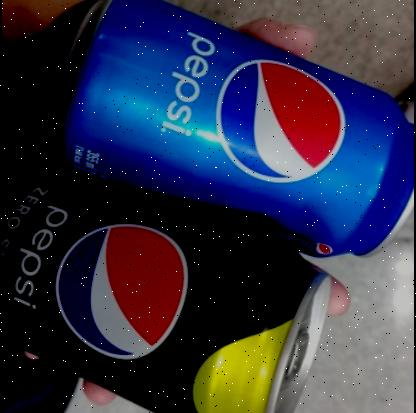Can: (49, 0, 414, 258), (1, 172, 332, 413)
